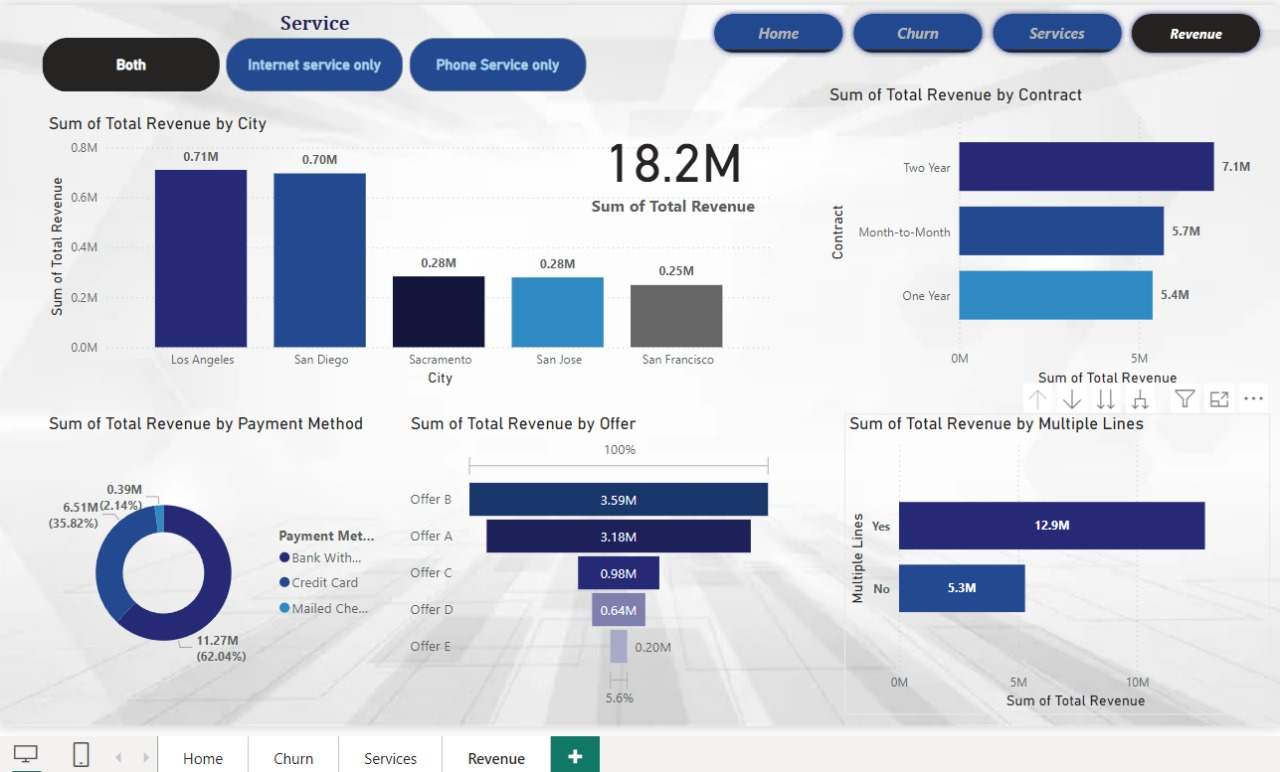

The page's visual inventory and layout, read from the dashboard file:
{"tool":"powerbi","page":{"name":"Revenue","canvas":[1280,720],"ordinal":3},"visuals":[{"type":"barChart","title":"Total Revenue by Contract","fields":{"Category":["telecom_customer.Contract"],"Y":["Sum(telecom_customer.Total Revenue)"]},"box":[824,79.6,445.2,306.4],"z":0},{"type":"clusteredBarChart","title":"Total Revenue by Multiple Lines","fields":{"Category":["telecom_customer.Multiple Lines","telecom_customer.Customer ID"],"Y":["Sum(telecom_customer.Total Revenue)"]},"box":[844.5,407.8,424.7,300.4],"z":1000},{"type":"clusteredColumnChart","title":" Total Revenue by City","fields":{"Y":["Sum(telecom_customer.Total Revenue)"],"Category":["telecom_customer.City"]},"box":[44.7,108,733.6,278],"z":2000},{"type":"funnel","title":"Total Revenue by Offer","fields":{"Y":["Sum(telecom_customer.Total Revenue)"],"Category":["telecom_customer.Offer"]},"box":[405.7,408.4,372.1,299.6],"z":3000},{"type":"donutChart","title":"Total Revenue by Payment Method","fields":{"Series":["telecom_customer.Payment Method"],"Y":["Sum(telecom_customer.Total Revenue)"]},"box":[44.3,408.4,338.5,299.6],"z":4000},{"type":"card","fields":{"Values":["Sum(telecom_customer.Total Revenue)"]},"box":[568.5,108,209.8,108],"z":5000},{"type":"pageNavigator","box":[709.3,4,557.5,49.7],"z":6000},{"type":"advancedSlicerVisual","title":"Service Type","fields":{"Values":["telecom_customer.Company Services"]},"box":[15.7,0,633.4,105],"z":7000}]}

Visuals, with their boxes on the page's 1280x720 design canvas (x1, y1, x2, y2). These are canvas units, not pixel positions in the 1280x772 screenshot, which may show the page scaled, cropped or inside an application window:
"Total Revenue by Contract" barChart: (824, 80, 1269, 386)
"Total Revenue by Multiple Lines" clusteredBarChart: (844, 408, 1269, 708)
" Total Revenue by City" clusteredColumnChart: (45, 108, 778, 386)
"Total Revenue by Offer" funnel: (406, 408, 778, 708)
"Total Revenue by Payment Method" donutChart: (44, 408, 383, 708)
card - Sum(telecom_customer.Total Revenue): (568, 108, 778, 216)
pageNavigator: (709, 4, 1267, 54)
"Service Type" advancedSlicerVisual: (16, 0, 649, 105)
